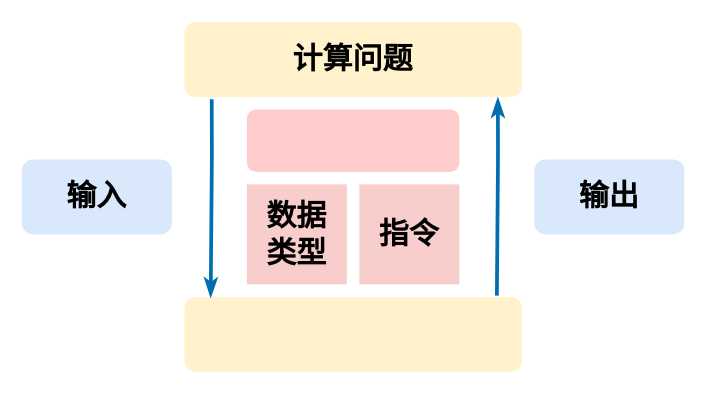
Some shapes in this 705 by 393 pixel diagram are drawn without their labels. Each missing label, with the centre of its shape:
程序结构: point (352, 140)
计算机: point (352, 333)
